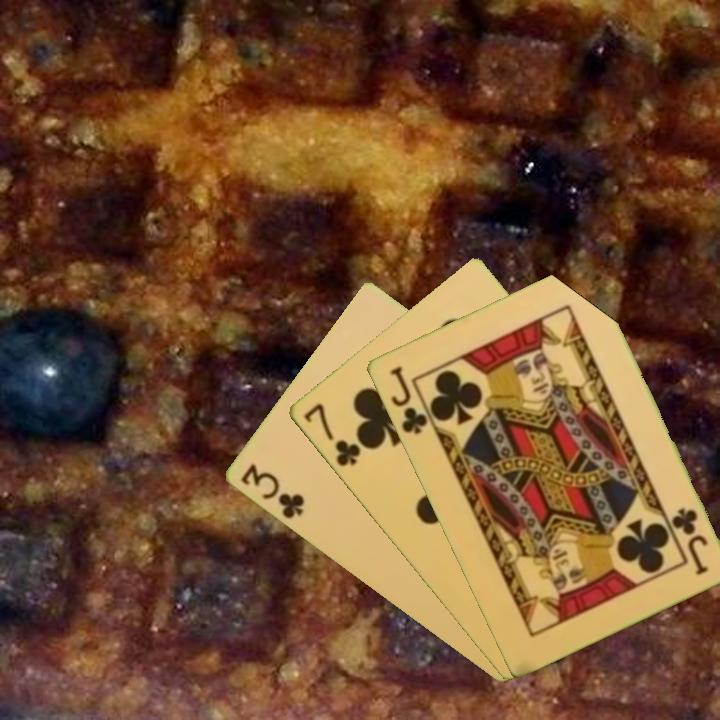3c: (236, 460, 307, 522)
7c: (299, 399, 363, 470)
Jc: (386, 362, 437, 438), (667, 504, 711, 578)
